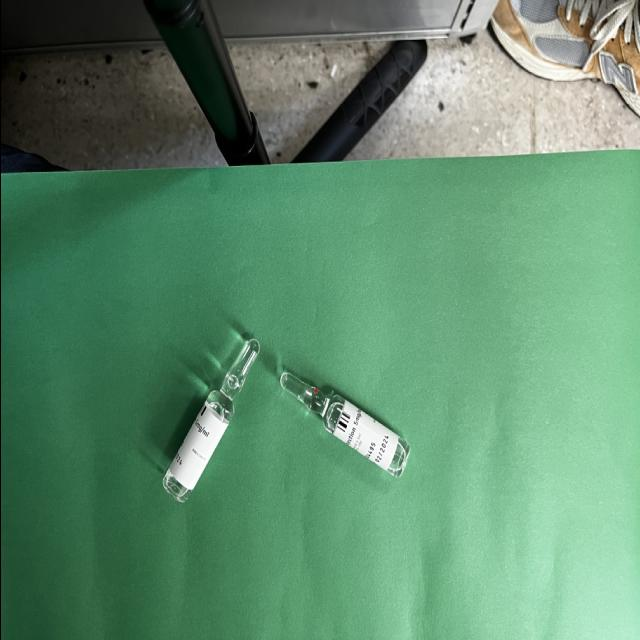Ampoules: (160, 339, 258, 503), (278, 373, 409, 477)
